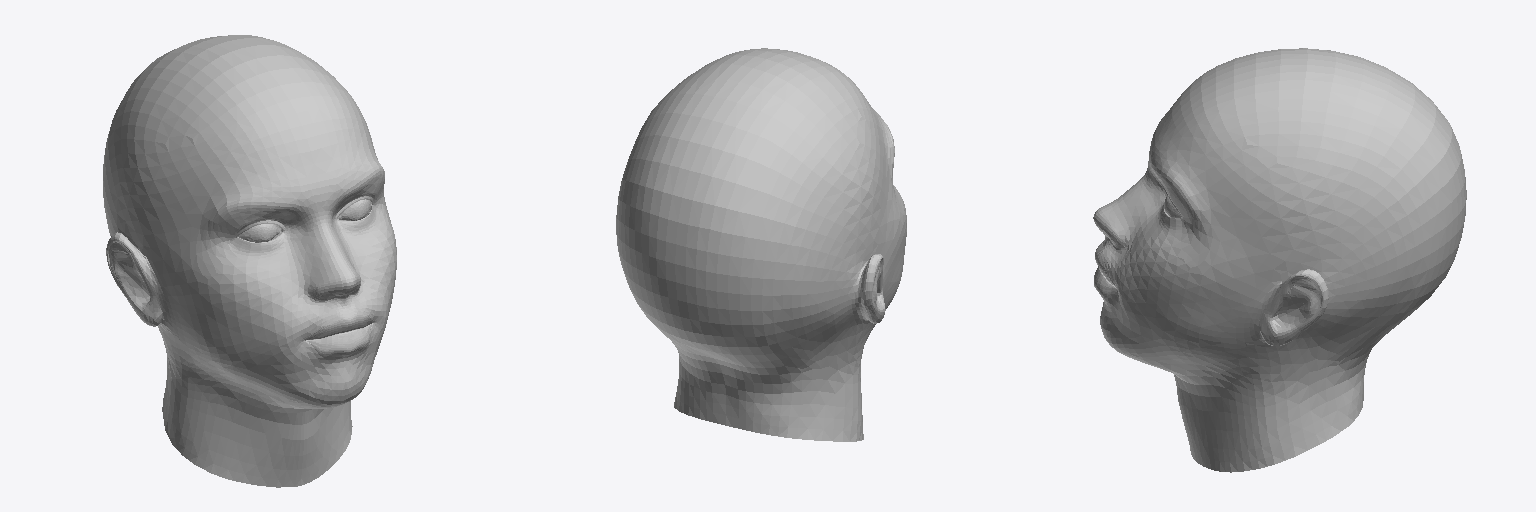
The picture shows the model from 3 angles: view 1: azimuth 30°, elevation 25°; view 2: azimuth 150°, elevation 25°; view 3: azimuth 270°, elevation 25°; orthographic projection.
Visible parts, largest first — view 1: FaceGen; view 2: FaceGen; view 3: FaceGen.
Part boxes in pixels (left/top/right/bottom): FaceGen: left=103, top=35, right=396, bottom=487; FaceGen: left=616, top=48, right=906, bottom=441; FaceGen: left=1093, top=48, right=1466, bottom=472.
Size of the model in its own units: 190 by 281 by 241.